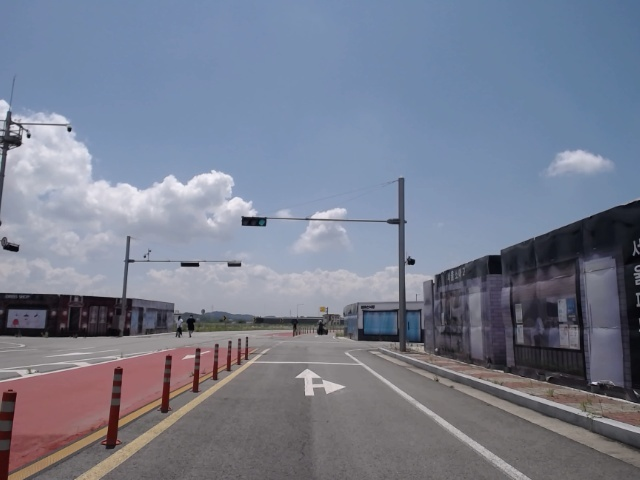green_3: (242, 217, 267, 226)
